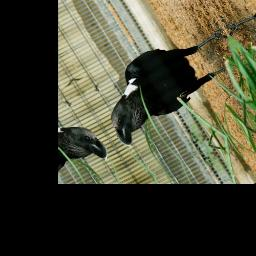Crow: (84, 15, 256, 151)
